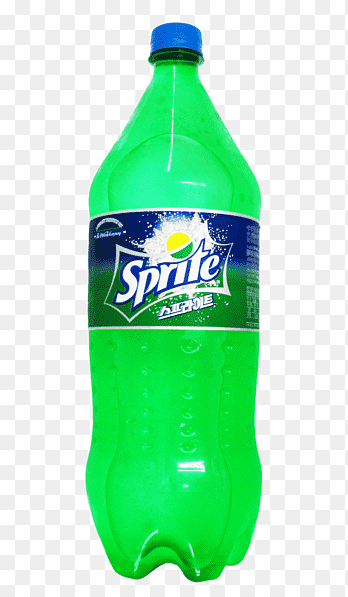sprite_bottle: (87, 22, 257, 582)
